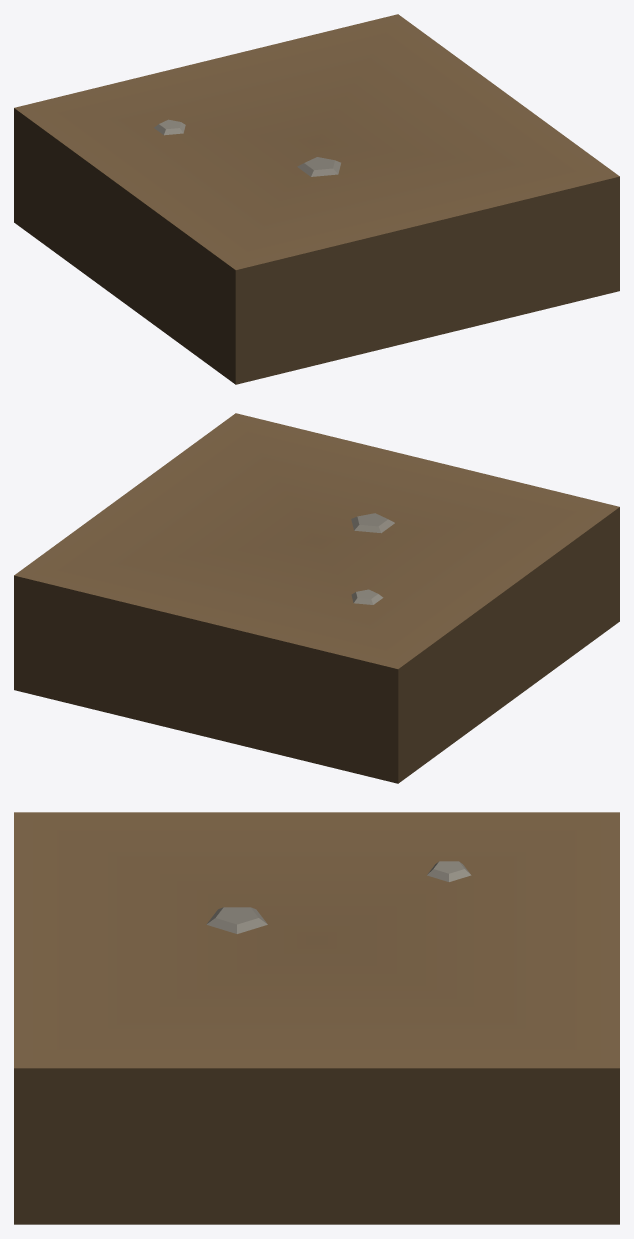
File: tile_road.glb
3 renders of one model, top to bottom at view 1: azimuth 30°, elevation 25°; view 2: azimuth 150°, elevation 25°; view 3: azimuth 270°, elevation 25°, orthographic. The views are drawn at different scales.
Parts seen in each view (by area): view 1: tile_road; view 2: tile_road; view 3: tile_road.
Boxes of the visible parts, x1=… form: tile_road: x1=14, y1=14, x2=619, y2=384; tile_road: x1=14, y1=413, x2=619, y2=783; tile_road: x1=14, y1=812, x2=619, y2=1224.
Bounding box in the file's own units: 1 × 0.3 × 1.
